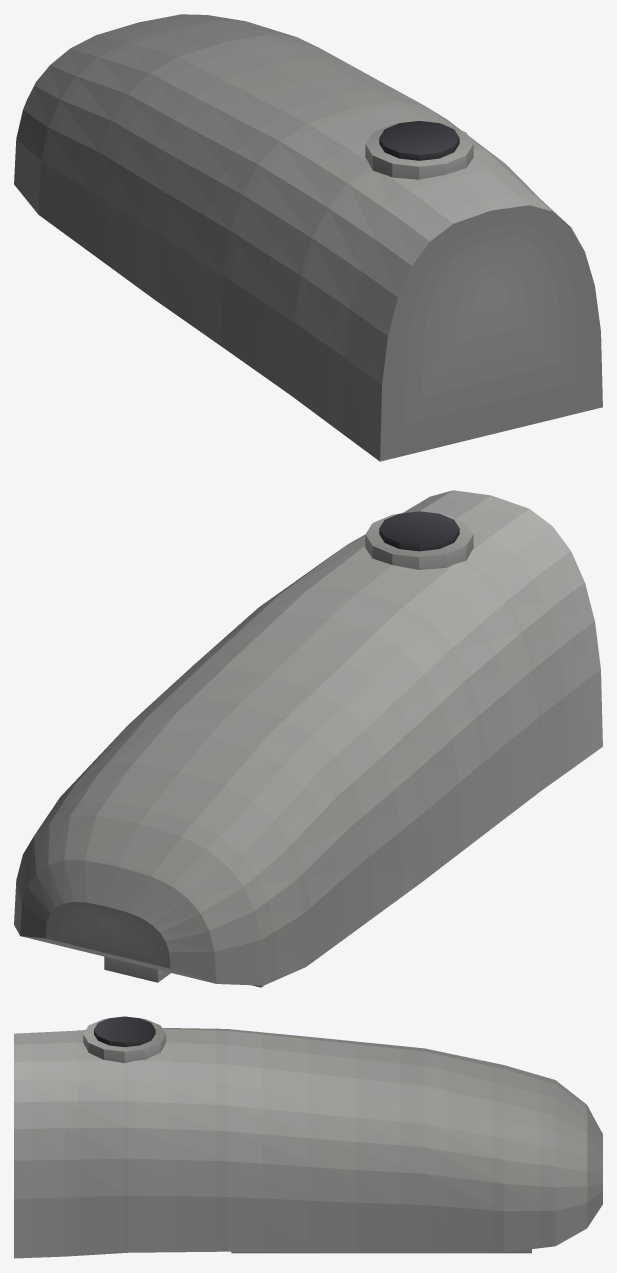
The model's file is streetlight_gem400r3cunp.obj.
The picture shows the model from 3 angles, top to bottom: view 1: azimuth 30°, elevation 25°; view 2: azimuth 150°, elevation 25°; view 3: azimuth 270°, elevation 25°; orthographic projection. The views are drawn at different scales.
Parts seen in each view (by area): view 1: fixture; view 2: fixture; view 3: fixture.
Part boxes in pixels (<box>): fixture: <box>14,14,602,461</box>; fixture: <box>14,490,602,987</box>; fixture: <box>14,1016,602,1258</box>.
Size of the model in its own units: 0.375 by 0.3267 by 0.9312.
